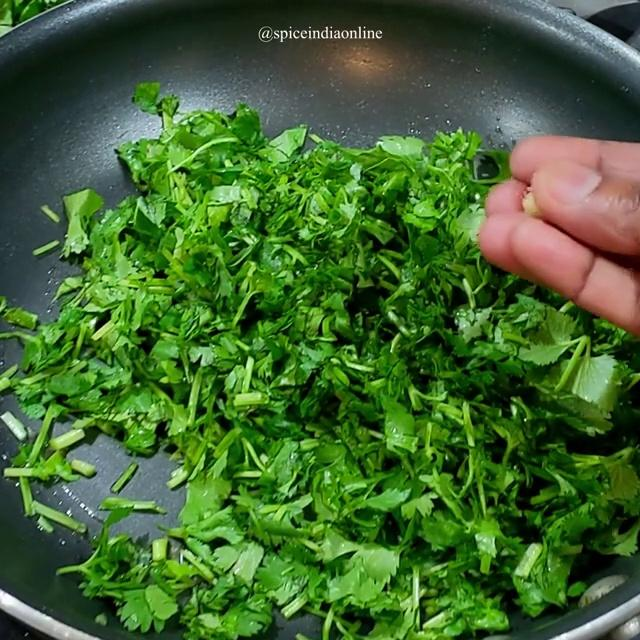cilantro: (138, 164, 486, 586)
